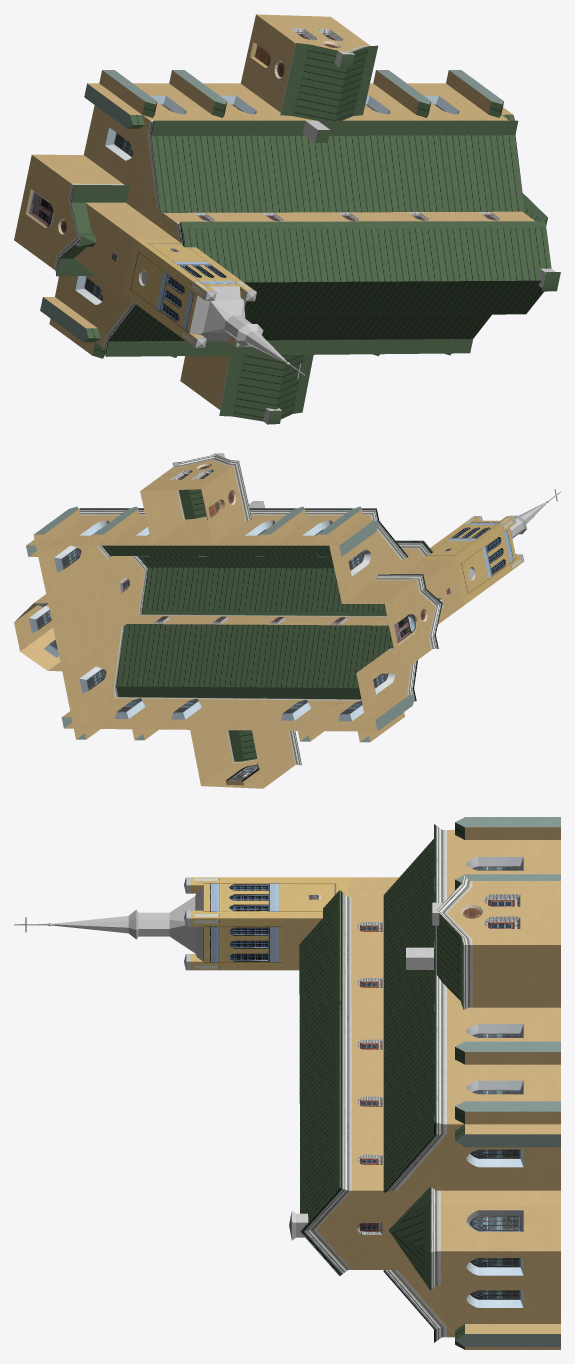
Rendered from Vabaduse_valjak_1_IS.obj.
3 renders of one model, top to bottom at view 1: azimuth 30°, elevation 25°; view 2: azimuth 150°, elevation 25°; view 3: azimuth 270°, elevation 25°, orthographic. The views are drawn at different scales.
Visible parts, largest first — view 1: Box01; view 2: Box01; view 3: Box01.
Boxes of the visible parts, x1,y1,x2,y2 form: Box01: [14, 14, 560, 424]; Box01: [14, 453, 560, 788]; Box01: [14, 817, 560, 1349].
Bounding box in the file's own units: 60.46 × 44.72 × 53.36.
